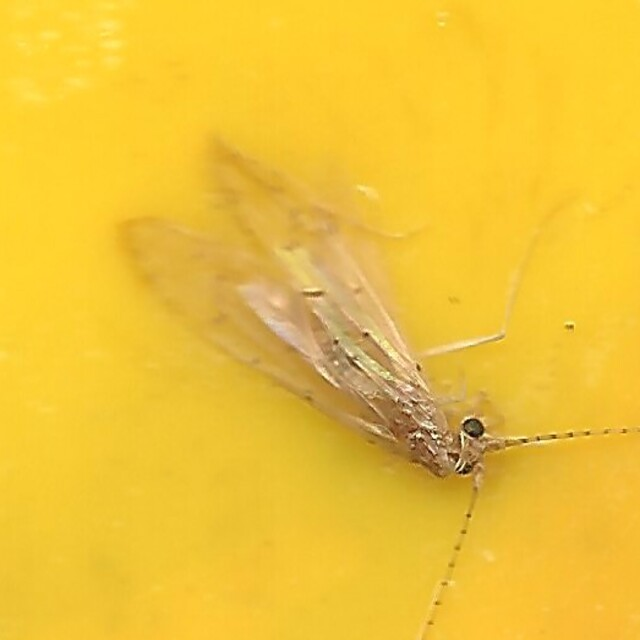Plecoptera: (122, 140, 518, 500)
